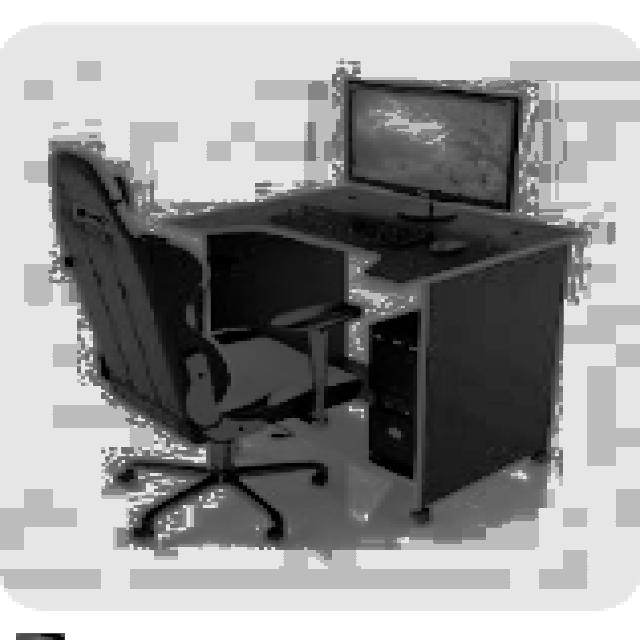book: (48, 148, 360, 543)
table: (158, 180, 579, 524)
